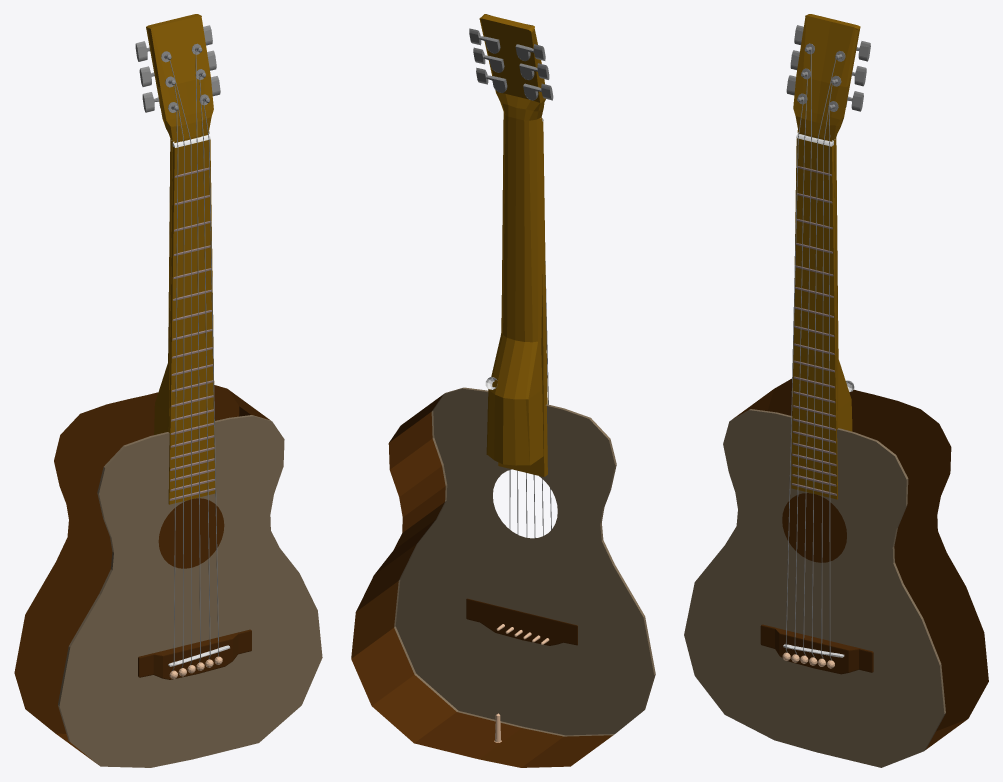
File: acoustic_guitar.glb
3 views of the same model, side by side, from view 1: azimuth 30°, elevation 25°; view 2: azimuth 150°, elevation 25°; view 3: azimuth 330°, elevation 25° (orthographic).
Parts seen in each view (by area): view 1: Circle, Cube, NurbsPath, Cube.003, Cube.002, Circle.009, Circle.013, Circle.012; view 2: Circle, Cube, Cube.003, Circle.009, Circle.013, Circle.012, NurbsPath; view 3: Circle, Cube, NurbsPath, Cube.003, Cube.002, Circle.009, Circle.013, Circle.012.
Boxes of the visible parts, x1=… form: Circle: x1=14, y1=385, x2=322, y2=767; Cube: x1=146, y1=14, x2=215, y2=504; NurbsPath: x1=169, y1=49, x2=219, y2=670; Cube.003: x1=138, y1=629, x2=251, y2=679; Cube.002: x1=169, y1=167, x2=215, y2=500; Circle.009: x1=142, y1=76, x2=220, y2=112; Circle.013: x1=135, y1=25, x2=212, y2=62; Circle.012: x1=139, y1=50, x2=216, y2=87; Circle: x1=351, y1=387, x2=655, y2=767; Cube: x1=479, y1=14, x2=547, y2=476; Cube.003: x1=466, y1=598, x2=577, y2=645; Circle.009: x1=476, y1=67, x2=553, y2=100; Circle.013: x1=469, y1=28, x2=545, y2=61; Circle.012: x1=473, y1=47, x2=549, y2=80; NurbsPath: x1=509, y1=261, x2=551, y2=537; Circle: x1=684, y1=378, x2=988, y2=767; Cube: x1=791, y1=14, x2=860, y2=499; NurbsPath: x1=785, y1=50, x2=836, y2=660; Cube.003: x1=760, y1=624, x2=873, y2=674; Cube.002: x1=791, y1=166, x2=836, y2=495; Circle.009: x1=786, y1=75, x2=863, y2=111; Circle.013: x1=794, y1=25, x2=870, y2=61; Circle.012: x1=790, y1=50, x2=866, y2=86.
Size of the model in its own units: 0.3782 by 1.01 by 0.1301.
